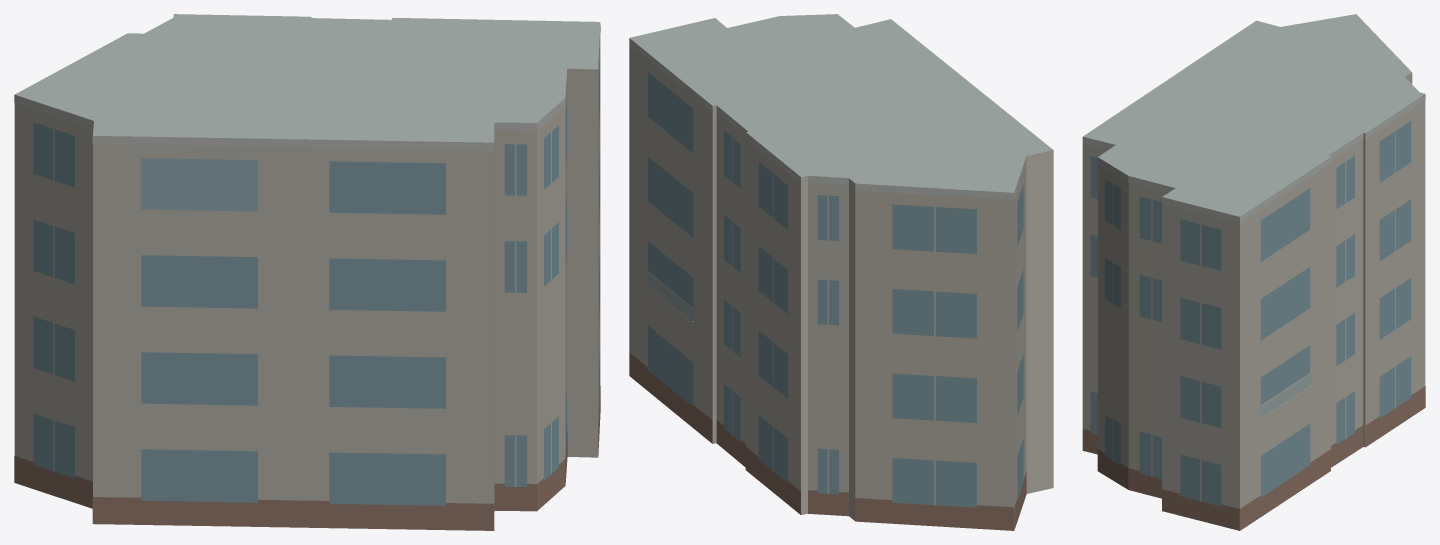
The model's file is survey-upis-32486030.glb.
The picture shows the model from 3 angles, left to right: view 1: azimuth 30°, elevation 25°; view 2: azimuth 150°, elevation 25°; view 3: azimuth 270°, elevation 25°; orthographic projection. The views are drawn at different scales.
Parts seen in each view (by area): view 1: survey-upis-32486030.tmp; view 2: survey-upis-32486030.tmp; view 3: survey-upis-32486030.tmp.
Boxes of the visible parts, x1=… form: survey-upis-32486030.tmp: x1=14, y1=14, x2=600, y2=530; survey-upis-32486030.tmp: x1=629, y1=14, x2=1053, y2=530; survey-upis-32486030.tmp: x1=1082, y1=14, x2=1425, y2=530.
Size of the model in its own units: 16.32 by 11.77 by 11.65.
